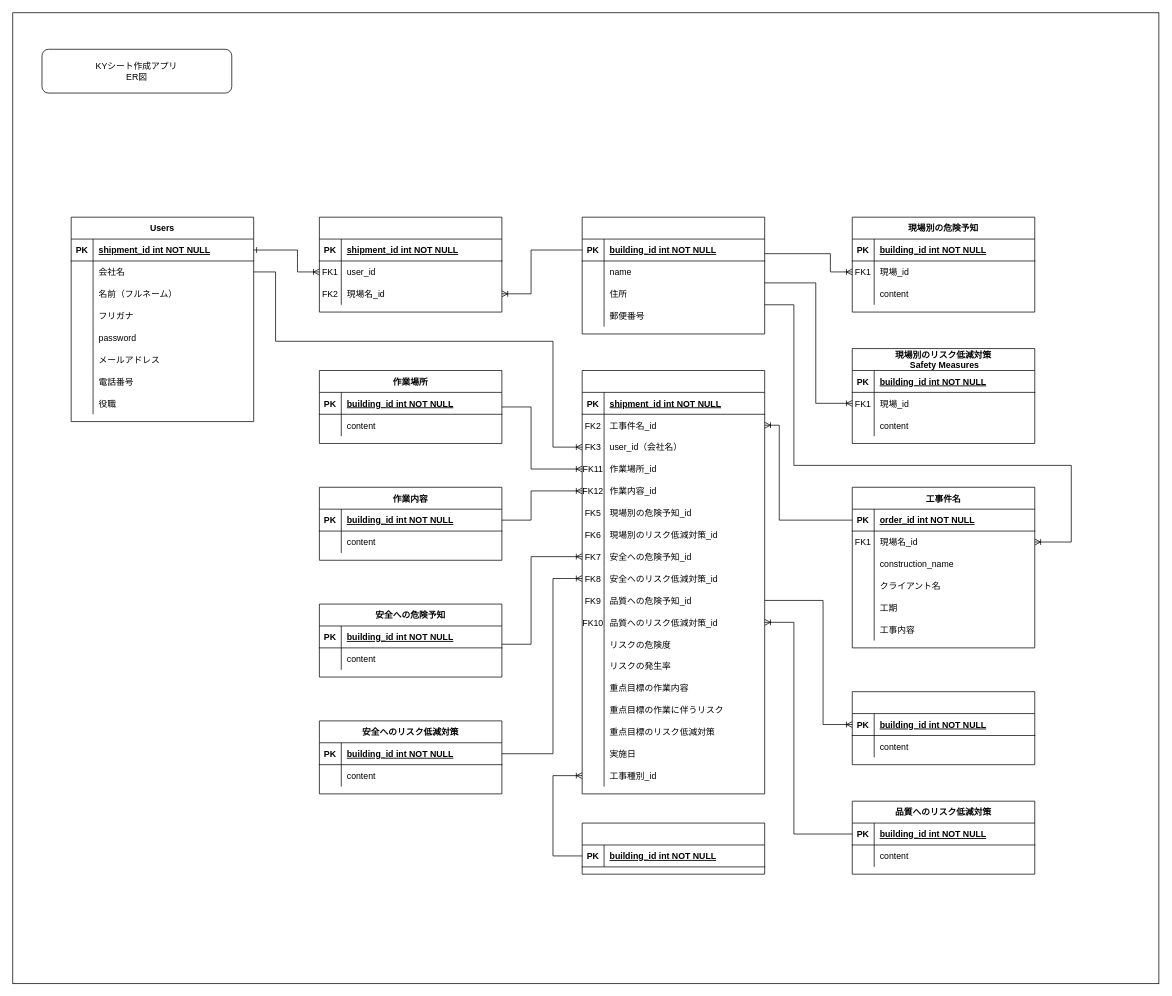
The diagram is 1172 pixels wide and 996 high, and some of its shapes have lost their labels. The shapes that lost their labels are listed below. From the top down, each one's box as (x1, y1, x2, y2) in pixels, then its label:
(319, 216, 502, 312): user_sites
(581, 216, 765, 334): 現場名
(581, 370, 765, 794): KYシート Risk Assessment Sheets
(852, 691, 1035, 765): 品質への危険予知
(581, 822, 765, 874): 工事種別（ActiveHash）
